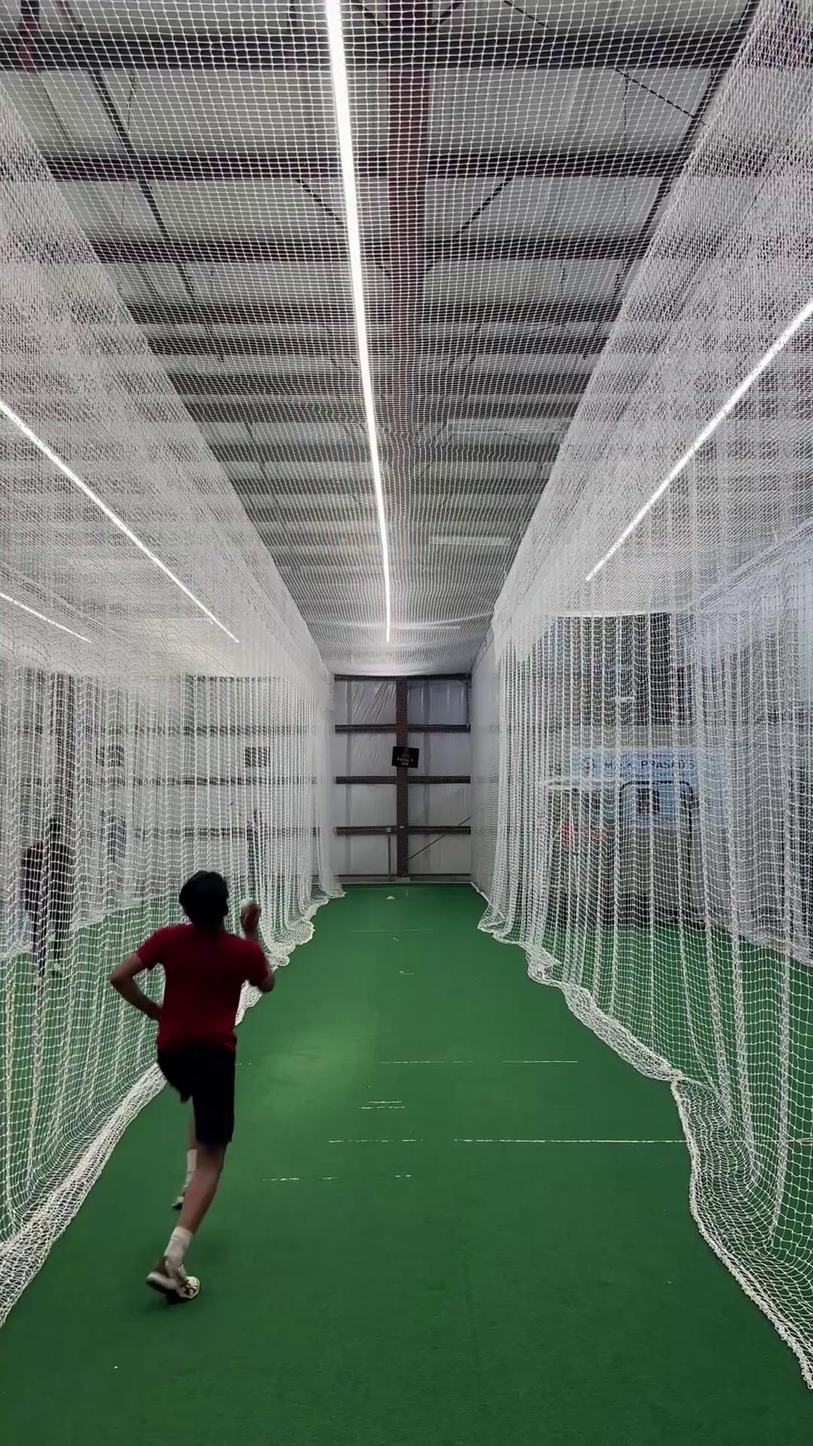ball: (237, 894, 259, 916)
